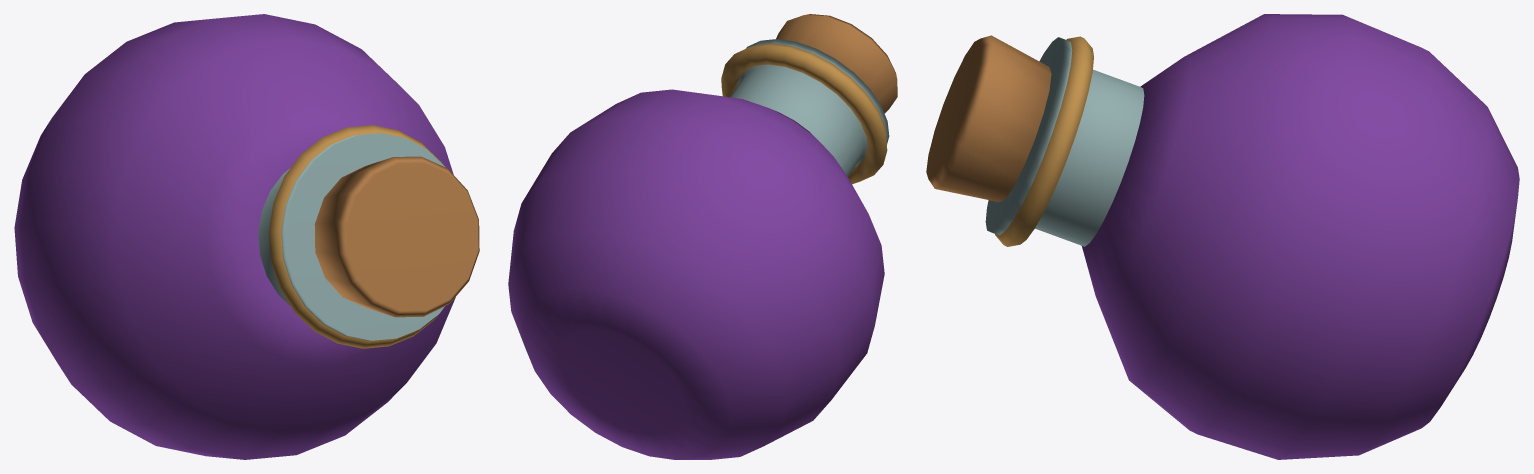
The model's file is rejuv_s.glb.
The picture shows the model from 3 angles, left to right: view 1: azimuth 30°, elevation 25°; view 2: azimuth 150°, elevation 25°; view 3: azimuth 270°, elevation 25°; orthographic projection. The views are drawn at different scales.
Parts seen in each view (by area): view 1: SM_rejuv_s; view 2: SM_rejuv_s; view 3: SM_rejuv_s.
Boxes of the visible parts, x1=… form: SM_rejuv_s: x1=14, y1=14, x2=479, y2=459; SM_rejuv_s: x1=508, y1=14, x2=897, y2=459; SM_rejuv_s: x1=926, y1=14, x2=1519, y2=459.
Bounding box in the file's own units: 0.236 × 0.2358 × 0.3133.
